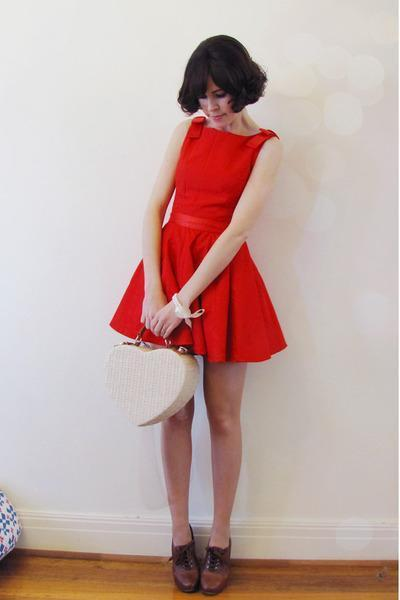dress: (110, 108, 286, 365)
shoe: (168, 540, 241, 599)
